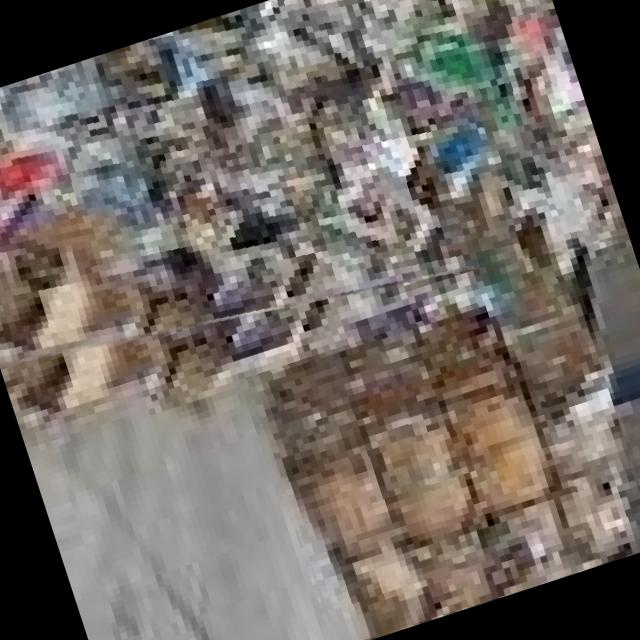PaperCardboard: (0, 0, 617, 365), (261, 287, 640, 635)
